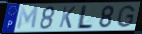8: (39, 5, 57, 30), (98, 5, 115, 29)
G: (115, 5, 137, 29)
K: (58, 6, 77, 29)
L: (75, 5, 94, 30)
M: (15, 6, 39, 31)
